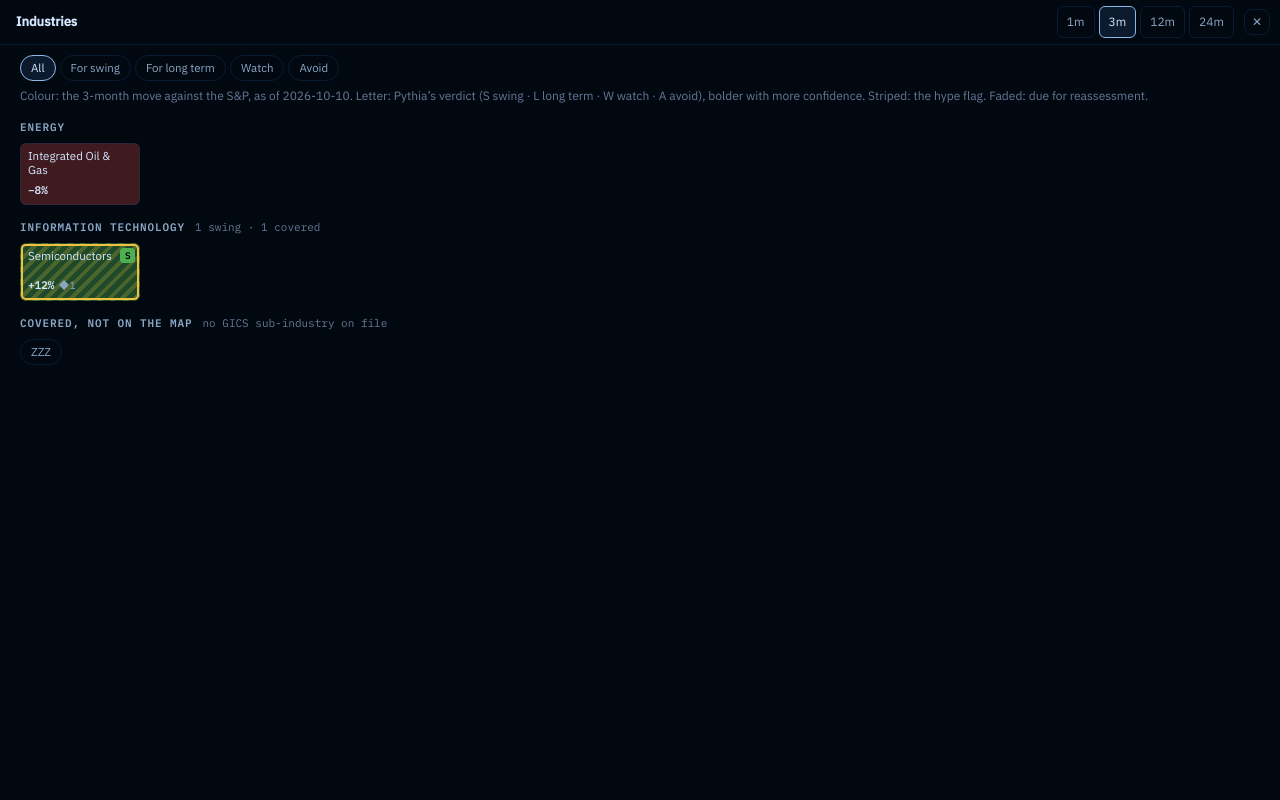
Test: ForecastPanel — the map › the window switch recolours the tiles
The width and height of the screenshot is (1280, 800).
Click the button "12m" at [1163, 22], box [1140,6,1185,38]
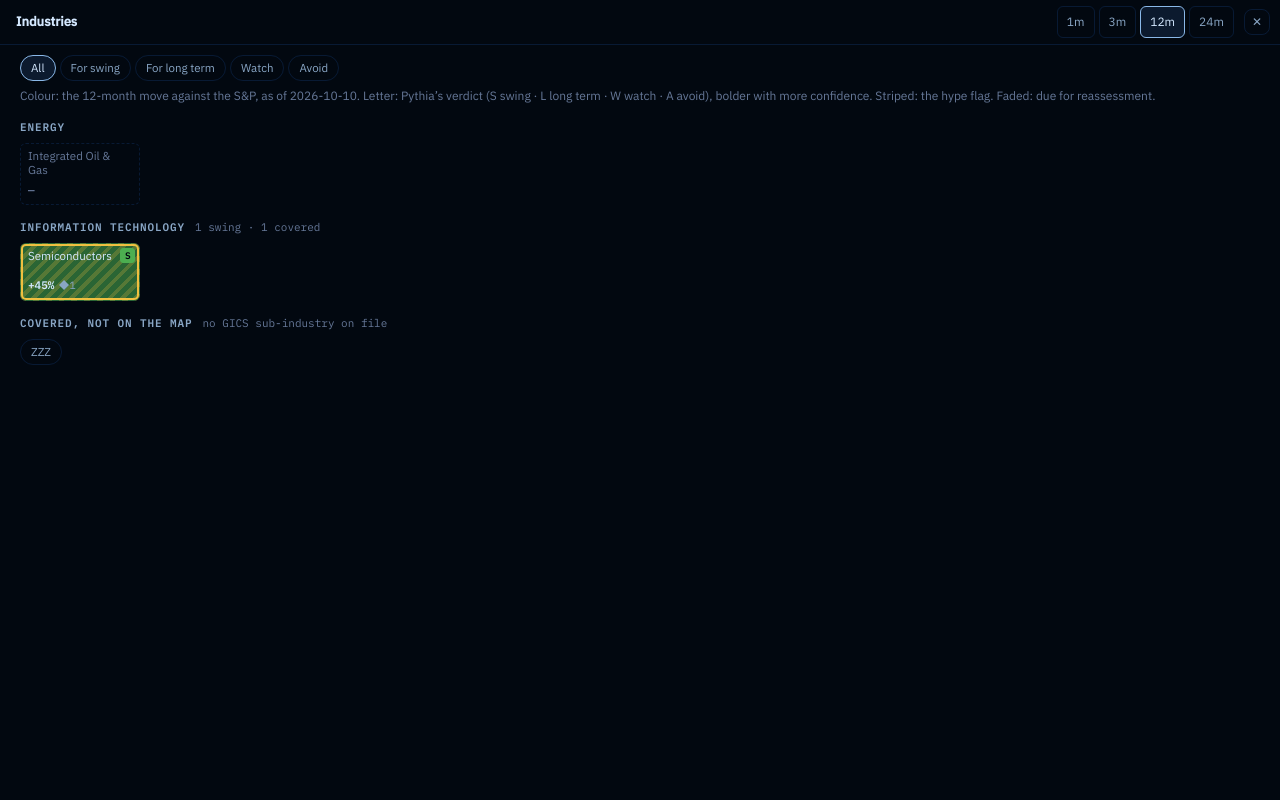
Expected: the button "Semiconductors +45% ◆1 S" is shown, [20,243,140,301]
